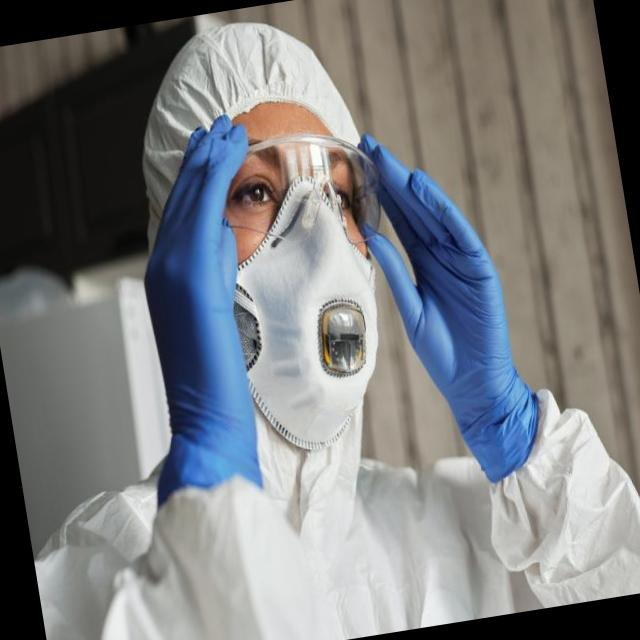Gloves: (343, 90, 549, 476), (107, 113, 305, 503)
